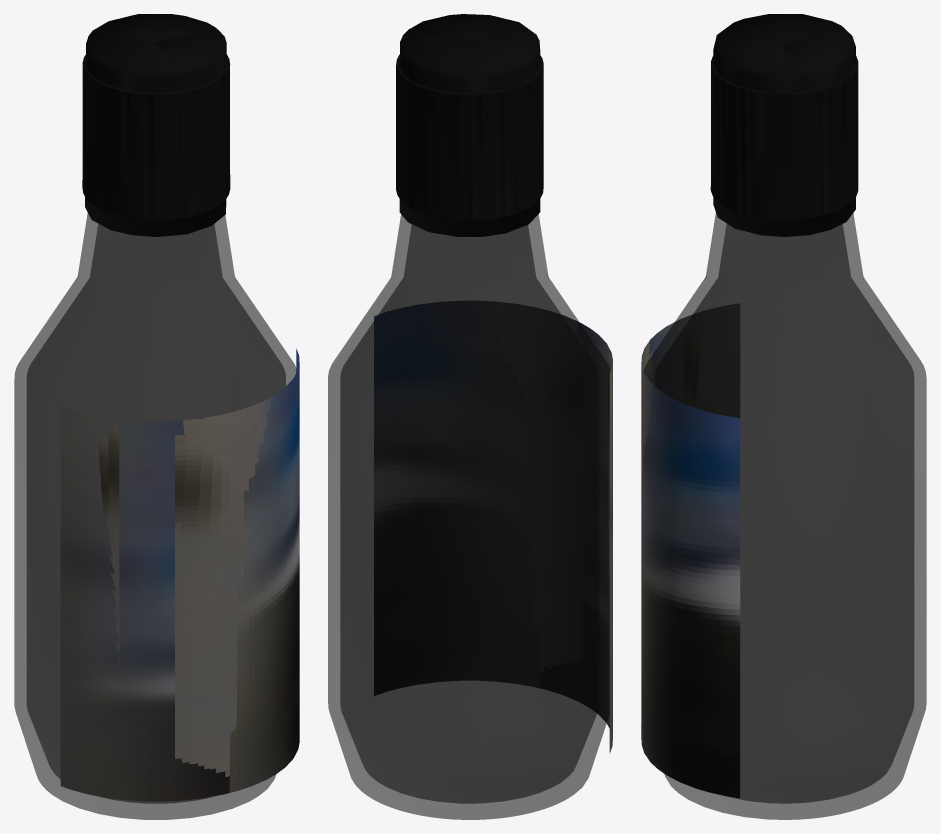
The picture shows the model from 3 angles, left to right: view 1: azimuth 30°, elevation 25°; view 2: azimuth 150°, elevation 25°; view 3: azimuth 270°, elevation 25°; orthographic projection.
Parts seen in each view (by area): view 1: small_dark_bottle__body, small_dark_bottle__cap; view 2: small_dark_bottle__body, small_dark_bottle__cap; view 3: small_dark_bottle__body, small_dark_bottle__cap.
Boxes of the visible parts, x1,y1,x2,y2 form: small_dark_bottle__body: (14, 213, 299, 819); small_dark_bottle__cap: (82, 14, 230, 236); small_dark_bottle__body: (328, 214, 612, 819); small_dark_bottle__cap: (396, 14, 543, 236); small_dark_bottle__body: (641, 213, 926, 819); small_dark_bottle__cap: (710, 14, 858, 236).
Size of the model in its own units: 0.0261 by 0.0737 by 0.0262.
3 materials, 1 textured.
